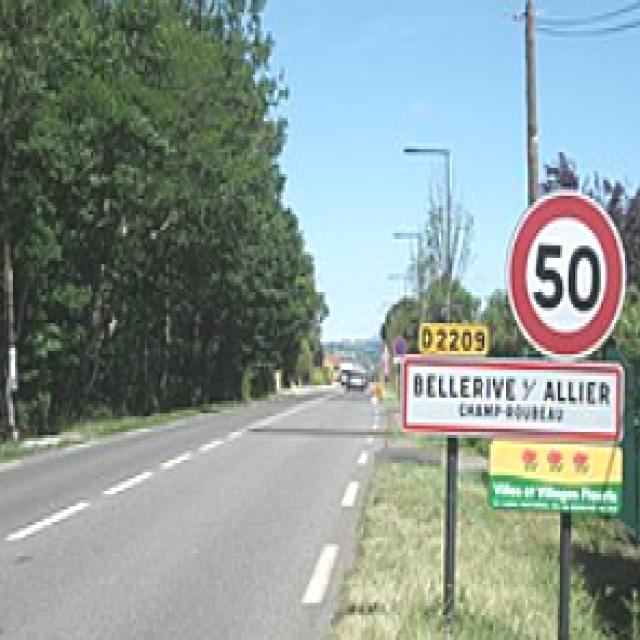speed_50: (508, 188, 628, 362)
